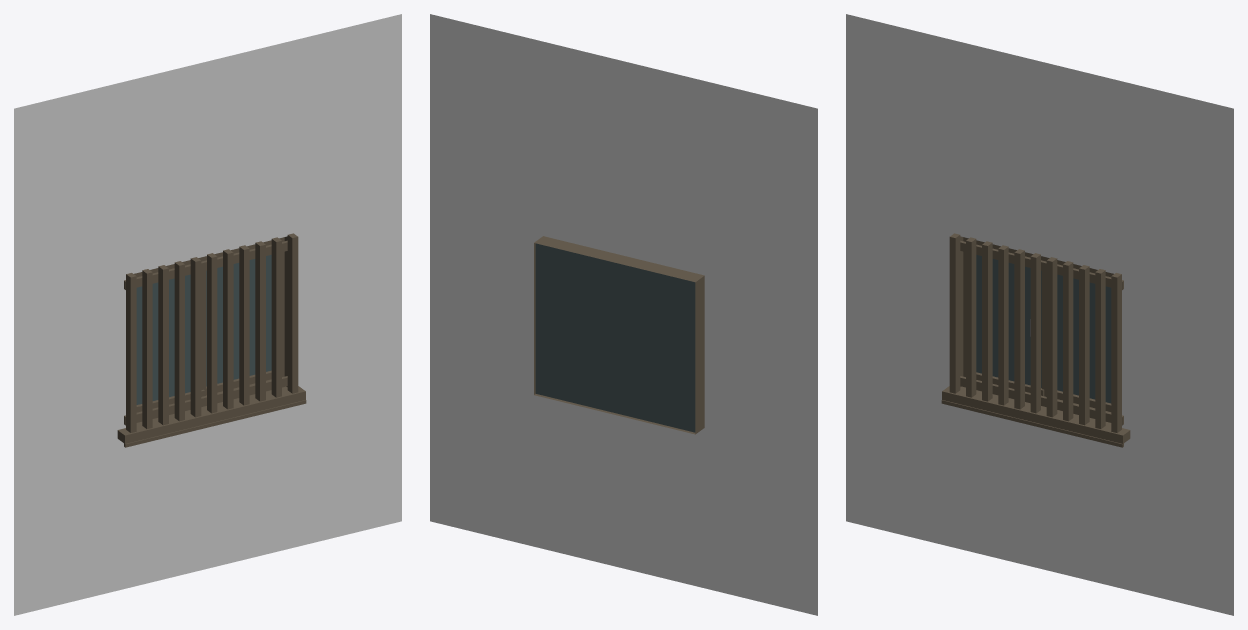
Rendered from top-w1_close.fbx.
The picture shows the model from 3 angles, left to right: view 1: azimuth 30°, elevation 25°; view 2: azimuth 150°, elevation 25°; view 3: azimuth 330°, elevation 25°; orthographic projection.
Parts seen in each view (by area): view 1: a2015/800/top-w1_close; view 2: a2015/800/top-w1_close; view 3: a2015/800/top-w1_close.
Part boxes in pixels (x1,y1,x2,y2): a2015/800/top-w1_close: (14,14,401,615); a2015/800/top-w1_close: (430,14,817,615); a2015/800/top-w1_close: (846,14,1233,615).
Bounding box in the file's own units: 2.4 × 3 × 0.185.
